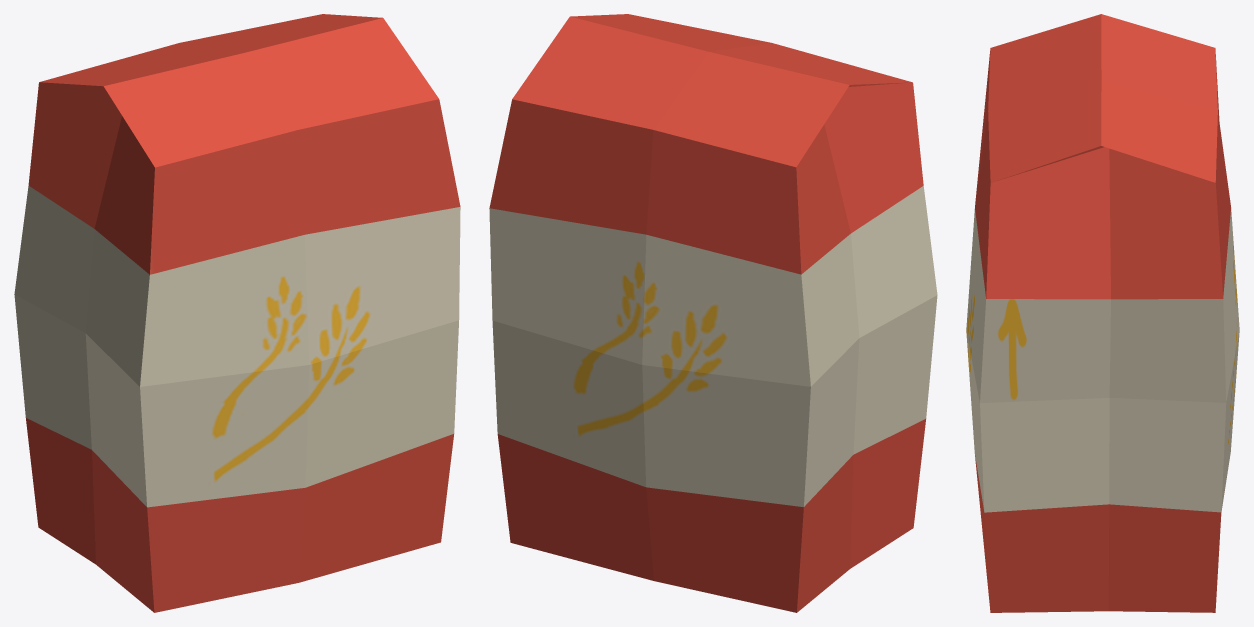
Rendered from harina.glb.
3 renders of one model, left to right at view 1: azimuth 30°, elevation 25°; view 2: azimuth 150°, elevation 25°; view 3: azimuth 270°, elevation 25°, orthographic. The views are drawn at different scales.
Parts seen in each view (by area): view 1: Cube; view 2: Cube; view 3: Cube.
Boxes of the visible parts, x1,y1,x2,y2 form: Cube: [14, 14, 460, 612]; Cube: [489, 14, 937, 612]; Cube: [966, 14, 1239, 612].
Bounding box in the file's own units: 0.2937 × 0.4228 × 0.2226.
1 material, 1 textured.
